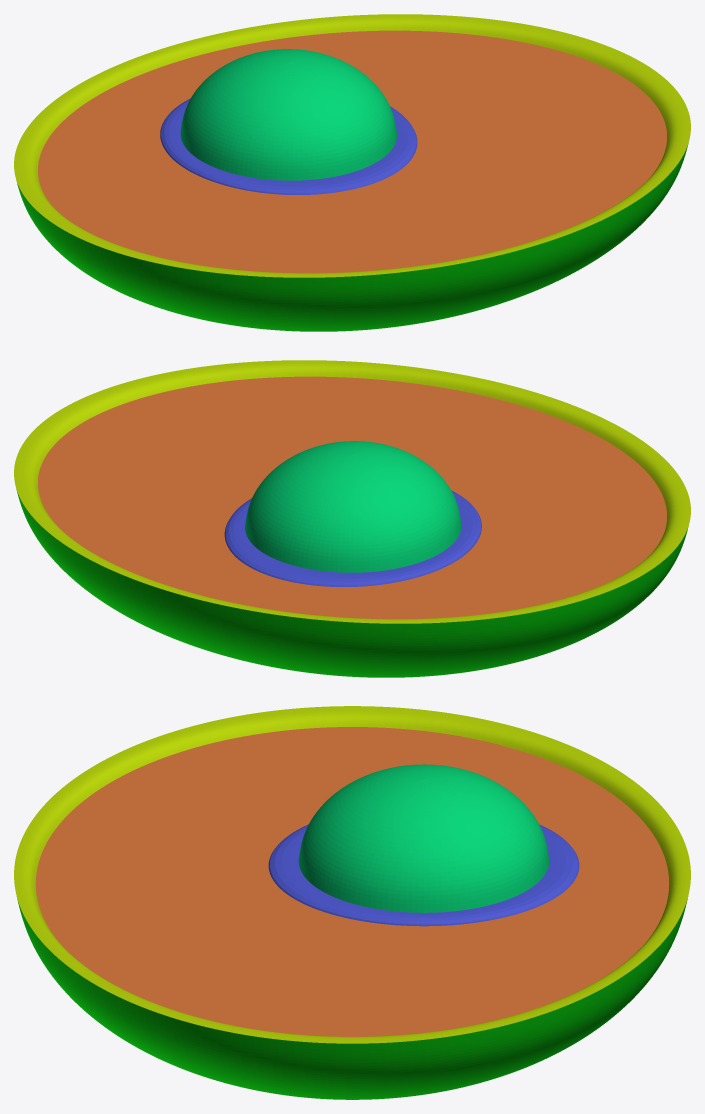
File: SimpleCell.fbx
The picture shows the model from 3 angles, top to bottom: view 1: azimuth 30°, elevation 25°; view 2: azimuth 150°, elevation 25°; view 3: azimuth 270°, elevation 25°; orthographic projection. The views are drawn at different scales.
Visible parts, largest first — view 1: Sphere.002, Sphere, Sphere.003, Sphere.001, Sphere.004; view 2: Sphere.002, Sphere, Sphere.003, Sphere.001, Sphere.004; view 3: Sphere.002, Sphere, Sphere.003, Sphere.001, Sphere.004.
Boxes of the visible parts, x1,y1,x2,y2 form: Sphere.002: [38, 30, 666, 273]; Sphere: [16, 143, 688, 331]; Sphere.003: [180, 49, 396, 180]; Sphere.001: [14, 14, 690, 277]; Sphere.004: [160, 98, 417, 194]; Sphere.002: [38, 376, 666, 619]; Sphere: [16, 489, 688, 677]; Sphere.003: [245, 441, 461, 572]; Sphere.001: [14, 360, 690, 623]; Sphere.004: [224, 490, 481, 586]; Sphere.002: [35, 727, 669, 1036]; Sphere: [17, 899, 687, 1099]; Sphere.003: [298, 764, 549, 912]; Sphere.001: [14, 706, 690, 1043]; Sphere.004: [268, 824, 579, 926].
Bounding box in the file's own units: 480 × 152 × 407.
